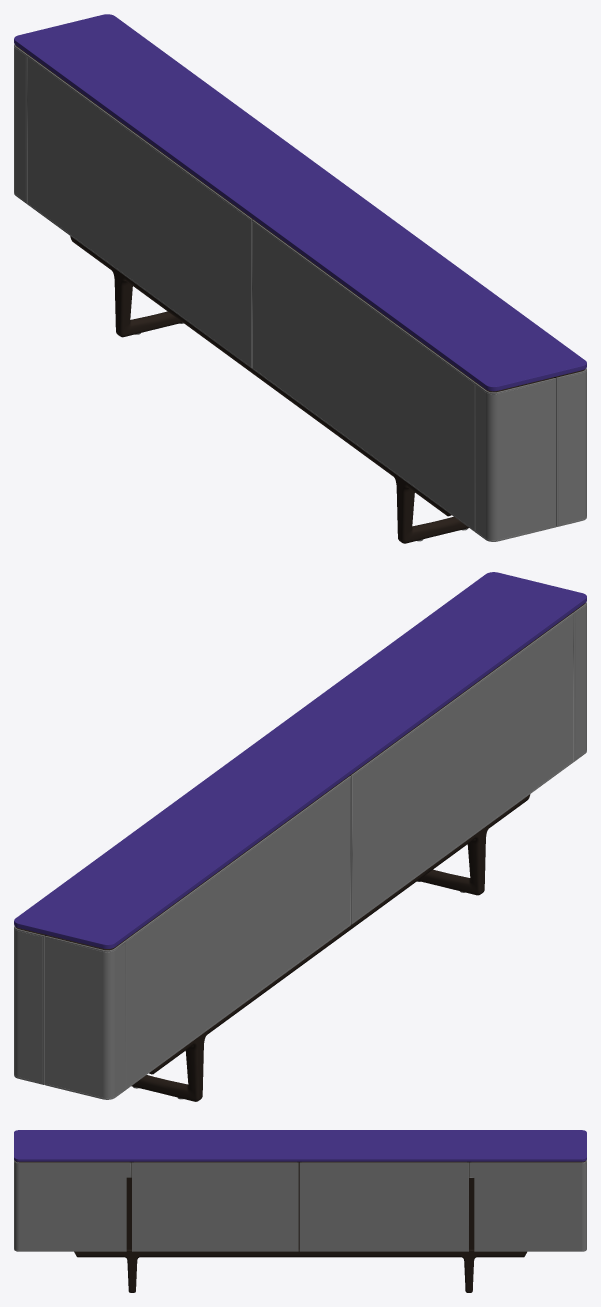
Rendered from STRG_Reception.FBX.
3 views of the same model, one above another, from view 1: azimuth 30°, elevation 25°; view 2: azimuth 150°, elevation 25°; view 3: azimuth 270°, elevation 25° (orthographic). The views are drawn at different scales.
Parts seen in each view (by area): view 1: fidelio 2; view 2: fidelio 2; view 3: fidelio 2.
Boxes of the visible parts, left/top/right/bottom form: fidelio 2: left=14, top=14, right=586, bottom=543; fidelio 2: left=14, top=572, right=586, bottom=1101; fidelio 2: left=14, top=1130, right=586, bottom=1292.
Bounding box in the file's own units: 29.67 × 65.32 × 246.
